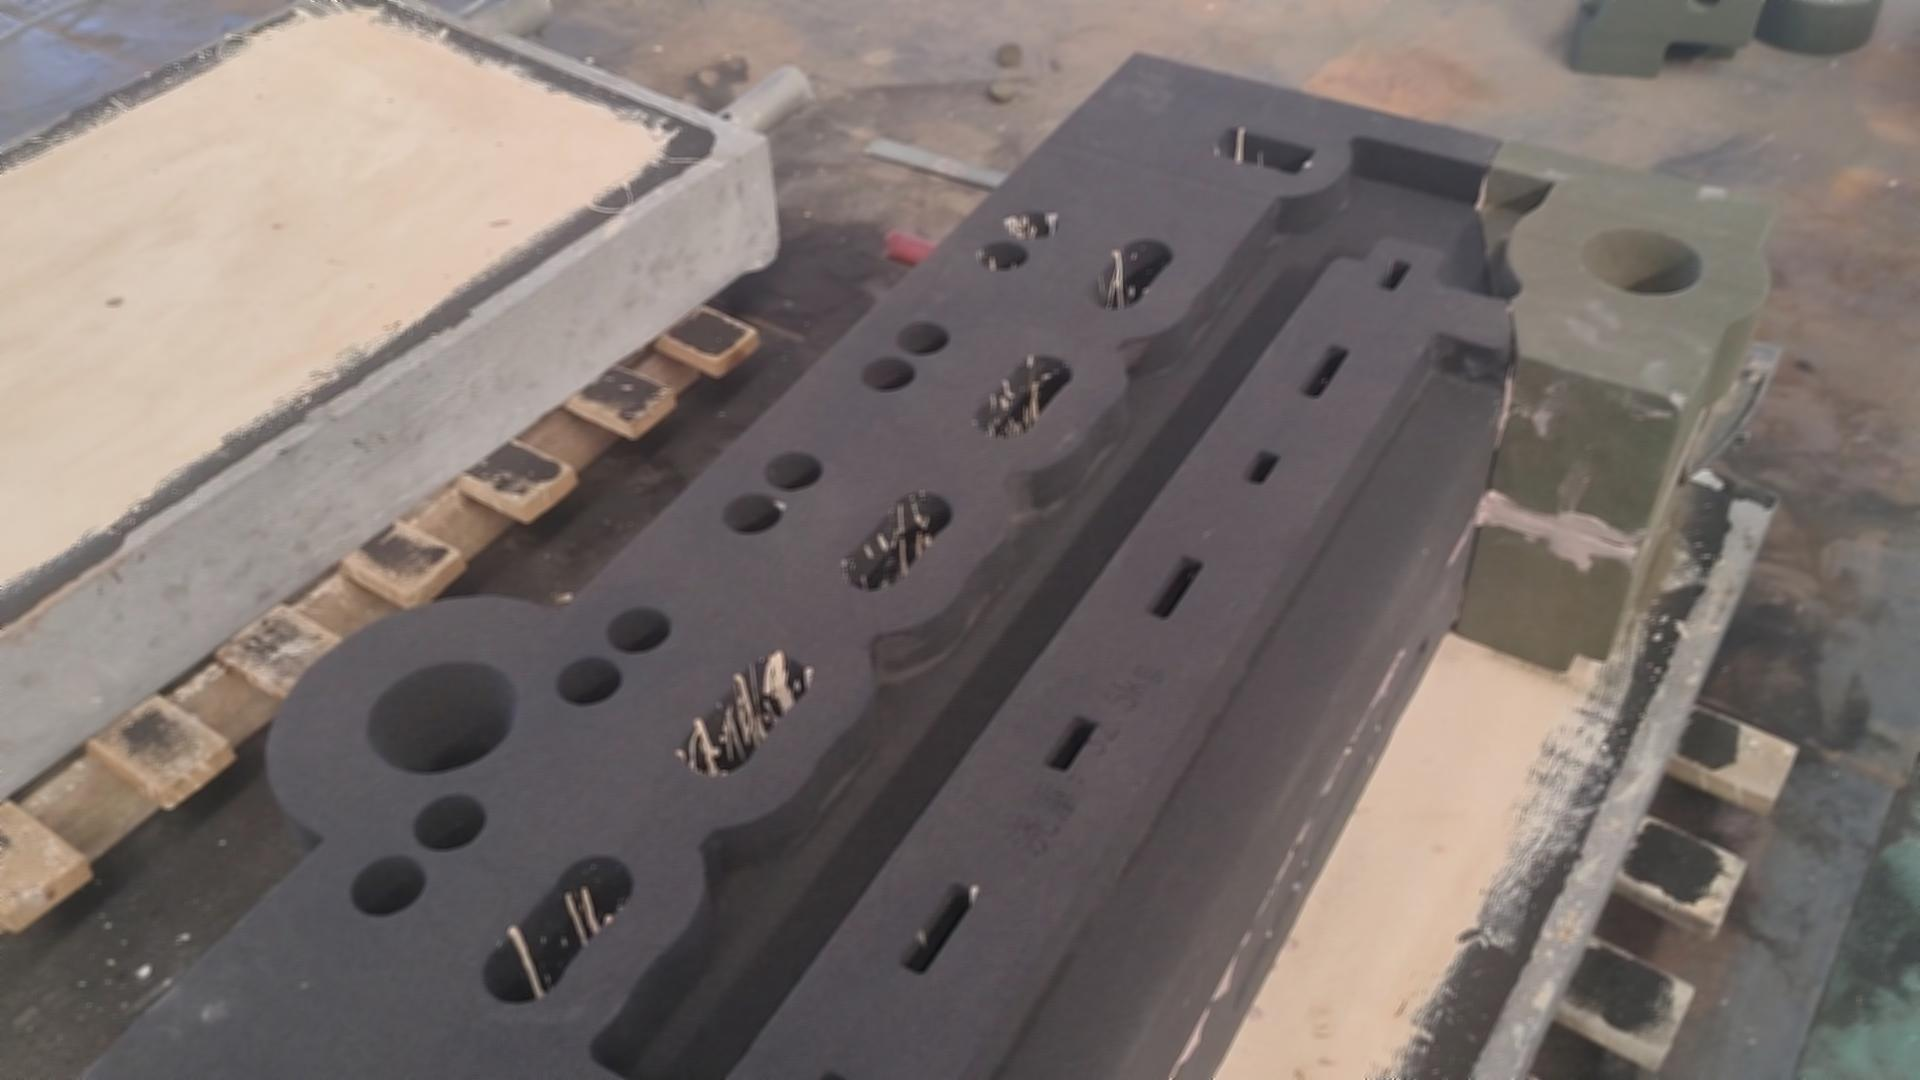pouring hole: (365, 661, 517, 773), (1581, 228, 1705, 297)
